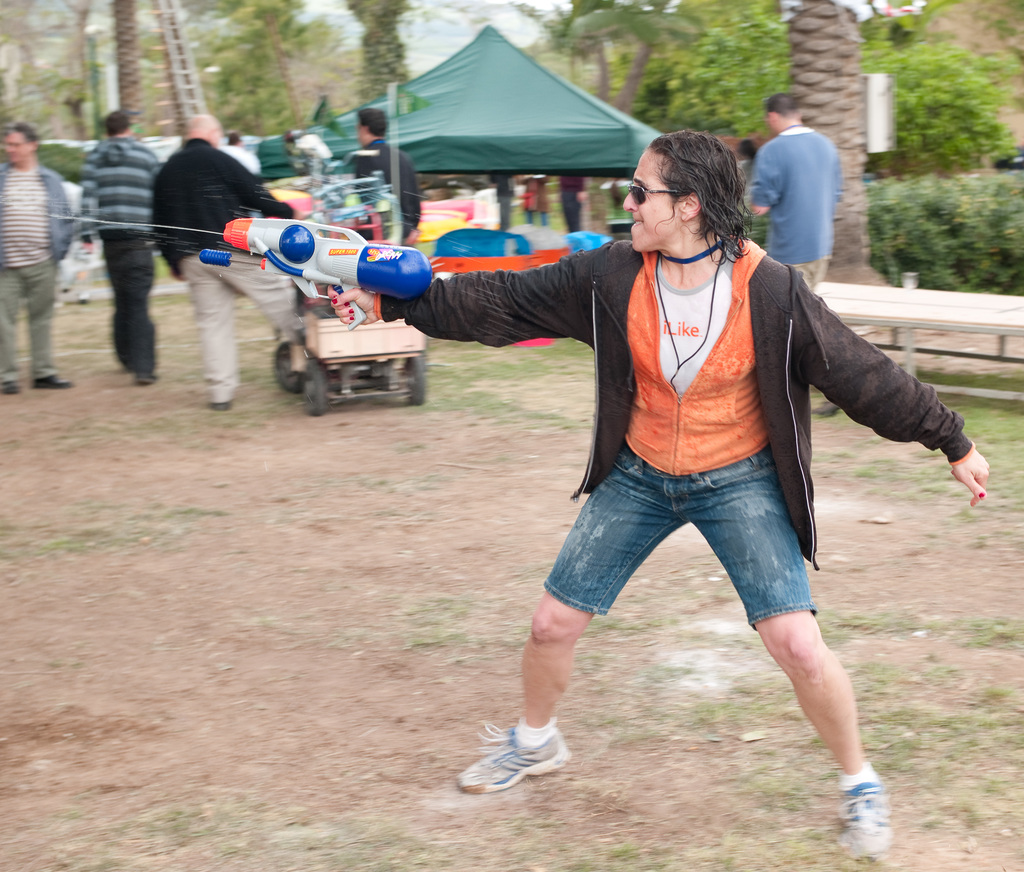Footwear: (462, 711, 567, 805), (838, 778, 896, 860), (33, 363, 72, 388), (124, 371, 161, 386), (209, 399, 234, 416), (0, 381, 20, 393)
